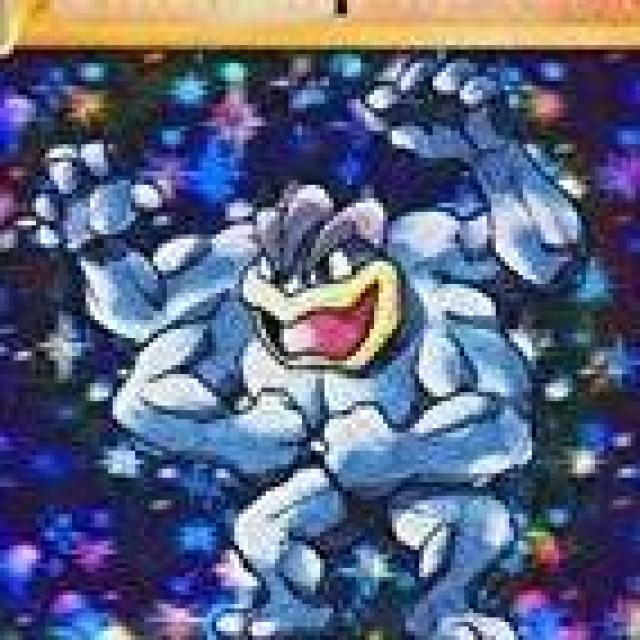Machamp: (171, 187, 536, 640)
